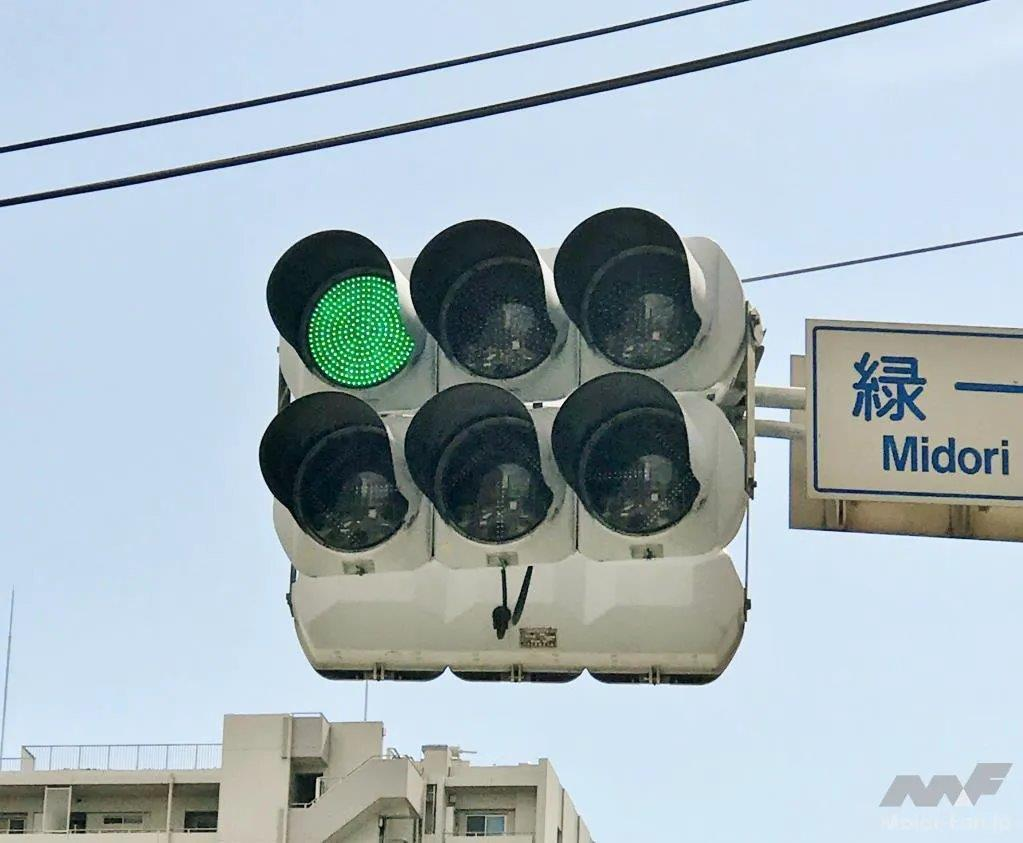cars: (267, 224, 741, 385)
